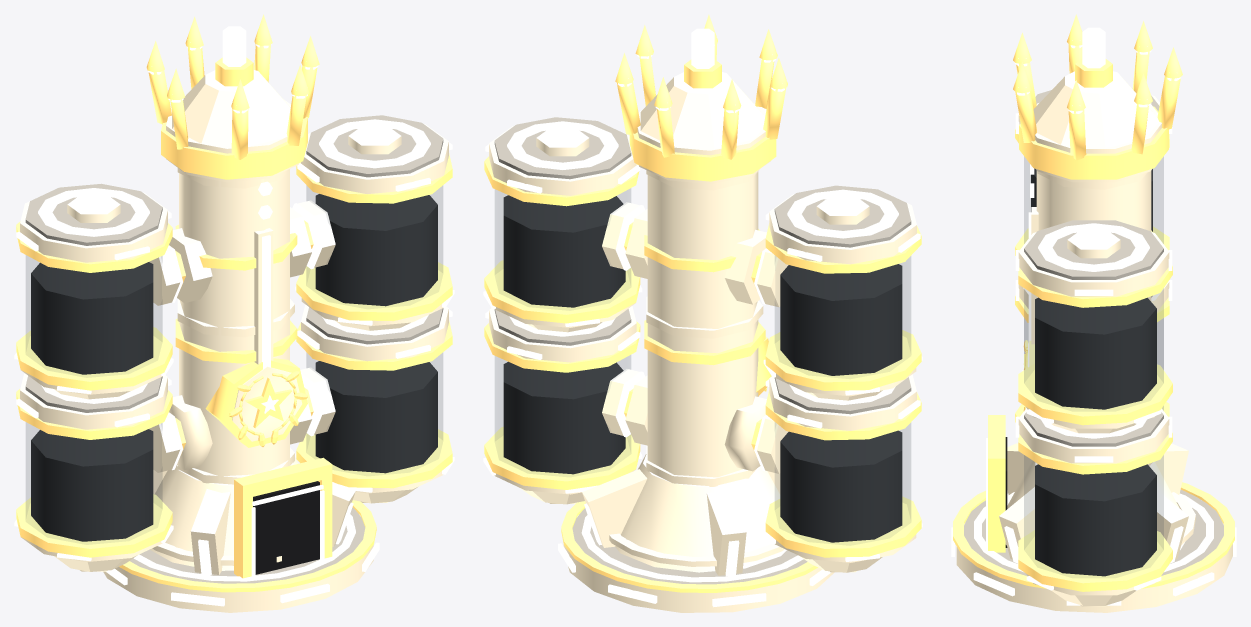
File: Vat_Graduate_T3.glb
The picture shows the model from 3 angles, left to right: view 1: azimuth 30°, elevation 25°; view 2: azimuth 150°, elevation 25°; view 3: azimuth 270°, elevation 25°; orthographic projection.
Visible parts, largest first — view 1: Vat_Graduate_T3; view 2: Vat_Graduate_T3; view 3: Vat_Graduate_T3.
Boxes of the visible parts, x1,y1,x2,y2 form: Vat_Graduate_T3: [14, 14, 454, 612]; Vat_Graduate_T3: [483, 14, 922, 612]; Vat_Graduate_T3: [951, 14, 1236, 612].
Bounding box in the file's own units: 6.53 × 7.92 × 3.88.
